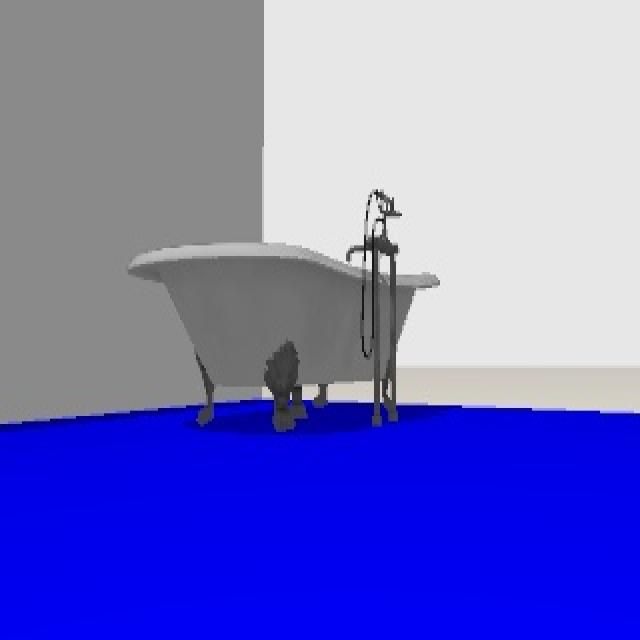bathtub: (126, 183, 440, 432)
